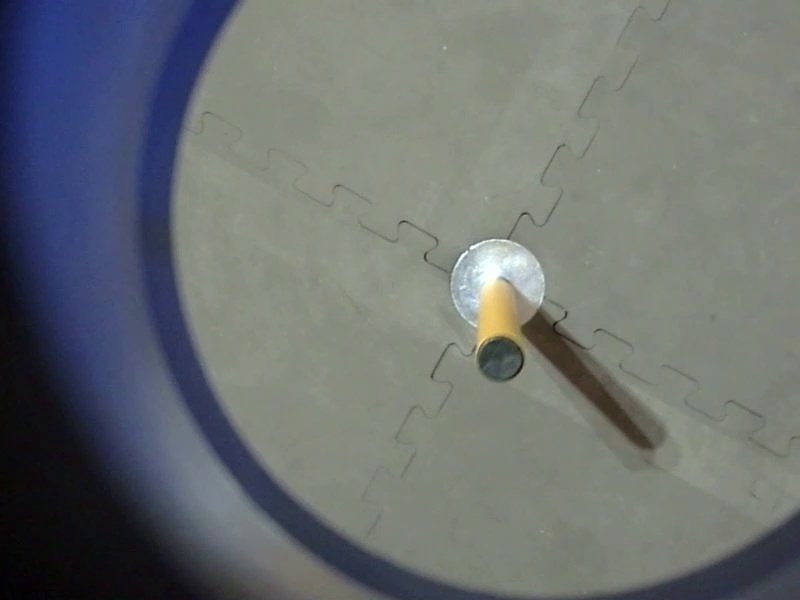tip: (473, 327, 530, 386)
